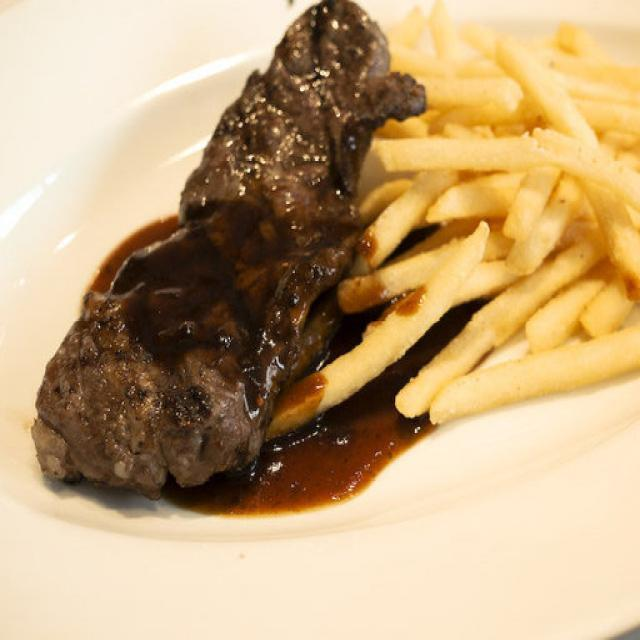French fries: (383, 50, 633, 430)
Steak: (58, 50, 378, 540)
